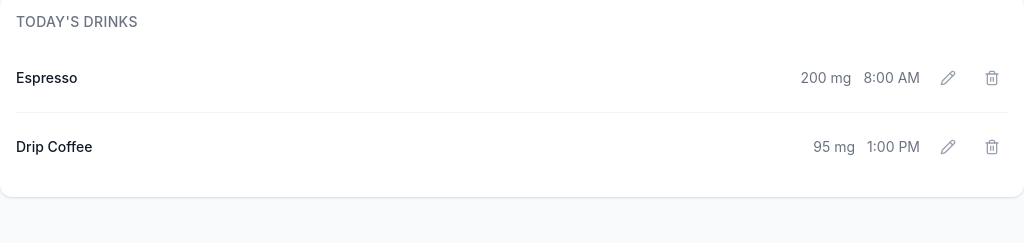
Test case: DrinkHistory › edit drink › starting delete confirm clears active edit
The image size is (1024, 243).
// Start edit on Espresso
Click the button named "edit espresso" at (948, 78), box [932, 56, 964, 100]
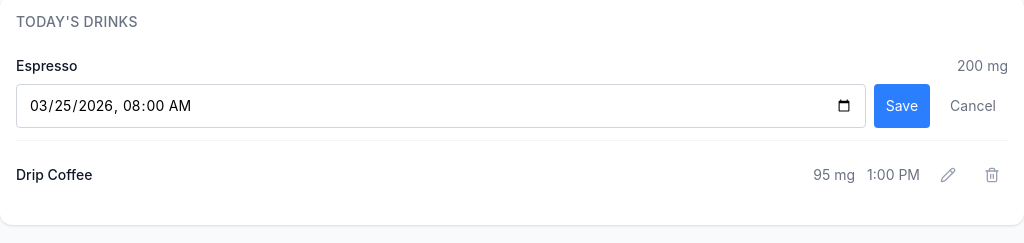
Now the button "Save" is shown, box [874, 84, 930, 128]
// Start delete confirm on Drip Coffee -- should clear edit on Espresso
Click the button named "delete drip coffee" at (992, 175), box [976, 153, 1008, 197]
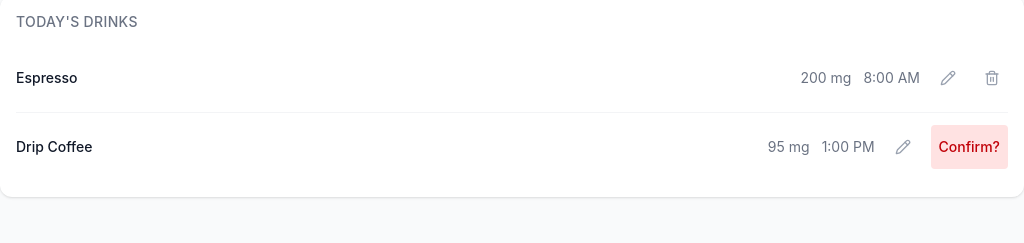
Now the button "Save" is gone
Now the button "Confirm?" is shown, box [931, 125, 1008, 169]
